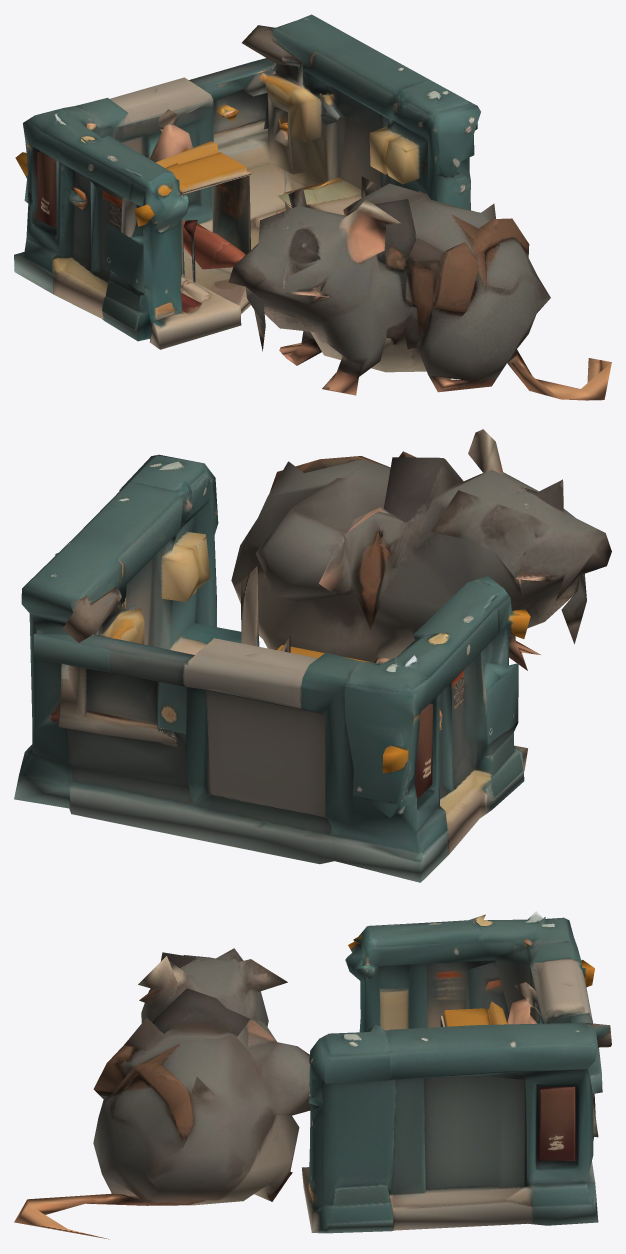
Rendered from utility_ratzilla_3000.glb.
The picture shows the model from 3 angles, top to bottom: view 1: azimuth 30°, elevation 25°; view 2: azimuth 150°, elevation 25°; view 3: azimuth 270°, elevation 25°; orthographic projection. The views are drawn at different scales.
Visible parts, largest first — view 1: tripo_node_b5b261da-e34e-4f6b-b705-cd1e9e7ad2c6; view 2: tripo_node_b5b261da-e34e-4f6b-b705-cd1e9e7ad2c6; view 3: tripo_node_b5b261da-e34e-4f6b-b705-cd1e9e7ad2c6.
Part boxes in pixels (box(x1,y1,x2,y2)): tripo_node_b5b261da-e34e-4f6b-b705-cd1e9e7ad2c6: box(14, 14, 611, 400); tripo_node_b5b261da-e34e-4f6b-b705-cd1e9e7ad2c6: box(14, 429, 611, 882); tripo_node_b5b261da-e34e-4f6b-b705-cd1e9e7ad2c6: box(14, 911, 611, 1239).
Size of the model in its own units: 0.6653 by 0.3528 by 0.9828.
1 material, 1 textured.
